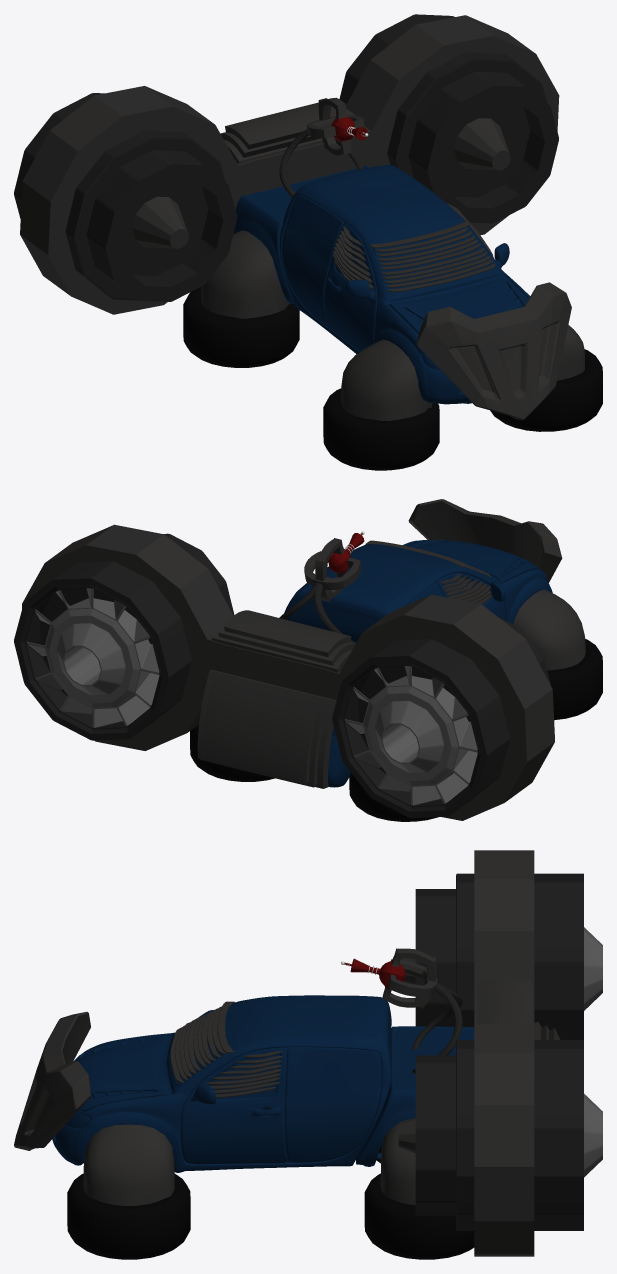
The model's file is Vehicle_004.fbx.
The picture shows the model from 3 angles, top to bottom: view 1: azimuth 30°, elevation 25°; view 2: azimuth 150°, elevation 25°; view 3: azimuth 270°, elevation 25°; orthographic projection. The views are drawn at different scales.
Visible parts, largest first — view 1: M5_JetHolder, M5_Base, M5_JetExhaust5, M5_JetExhaust4, M2_Shield, M5_Tires_03, M5_Tires_02, M5_TireShield_04, M5_TireShield_02, M5_Tires_04, M5_TopTombstone, M5_TetherBeam2 (+3 smaller); view 2: M5_JetHolder, M5_JetExhaust4, M5_JetExhaust5, M5_Base, M5_Tombstone, M2_Shield, M5_TopTombstone, M5_TireShield_04, M5_Tires_03, M5_TetherBeam2, M5_Tires_02, M5_Tires_01 (+1 smaller); view 3: M5_Base, M5_JetHolder, M5_JetExhaust4, M5_JetExhaust5, M5_Tires_04, M5_TireShield_03, M2_Shield, M5_Tires_01, M5_TetherBeam2, M5_TopTombstone, M5_TrunkLid, M5_TireShield_01 (+1 smaller).
Part boxes in pixels (x1=…): M5_JetHolder: x1=20, y1=15, x2=559, y2=314; M5_Base: x1=233, y1=164, x2=530, y2=404; M5_JetExhaust5: x1=14, y1=93, x2=237, y2=301; M5_JetExhaust4: x1=339, y1=14, x2=558, y2=223; M2_Shield: x1=416, y1=282, x2=571, y2=420; M5_Tires_03: x1=323, y1=388, x2=439, y2=470; M5_Tires_02: x1=183, y1=287, x2=299, y2=367; M5_TireShield_04: x1=341, y1=339, x2=432, y2=420; M5_TireShield_02: x1=201, y1=230, x2=290, y2=318; M5_Tires_04: x1=490, y1=349, x2=602, y2=431; M5_TopTombstone: x1=220, y1=102, x2=355, y2=164; M5_TetherBeam2: x1=306, y1=97, x2=368, y2=155; M5_JetHolder: x1=22, y1=524, x2=554, y2=820; M5_JetExhaust4: x1=14, y1=533, x2=234, y2=740; M5_JetExhaust5: x1=332, y1=616, x2=550, y2=818; M5_Base: x1=284, y1=540, x2=552, y2=787; M5_Tombstone: x1=197, y1=669, x2=336, y2=788; M2_Shield: x1=408, y1=499, x2=562, y2=582; M5_TopTombstone: x1=212, y1=610, x2=355, y2=672; M5_TireShield_04: x1=513, y1=589, x2=585, y2=670; M5_Tires_03: x1=547, y1=639, x2=602, y2=719; M5_TetherBeam2: x1=304, y1=531, x2=364, y2=601; M5_Tires_02: x1=349, y1=773, x2=438, y2=821; M5_Tires_01: x1=190, y1=725, x2=274, y2=781; M5_Base: x1=52, y1=995, x2=474, y2=1172; M5_JetHolder: x1=474, y1=850, x2=534, y2=1256; M5_JetExhaust4: x1=398, y1=1040, x2=602, y2=1230; M5_JetExhaust5: x1=400, y1=873, x2=602, y2=1039; M5_Tires_04: x1=67, y1=1173, x2=190, y2=1259; M5_TireShield_03: x1=83, y1=1124, x2=174, y2=1205; M2_Shield: x1=14, y1=1011, x2=90, y2=1150; M5_Tires_01: x1=364, y1=1173, x2=474, y2=1259; M5_TetherBeam2: x1=341, y1=948, x2=437, y2=1008; M5_TopTombstone: x1=477, y1=977, x2=532, y2=1024; M5_TrunkLid: x1=395, y1=1028, x2=474, y2=1089; M5_TireShield_01: x1=380, y1=1118, x2=415, y2=1205.
Bounding box in the file's own units: 14.04 × 6.26 × 13.22.
